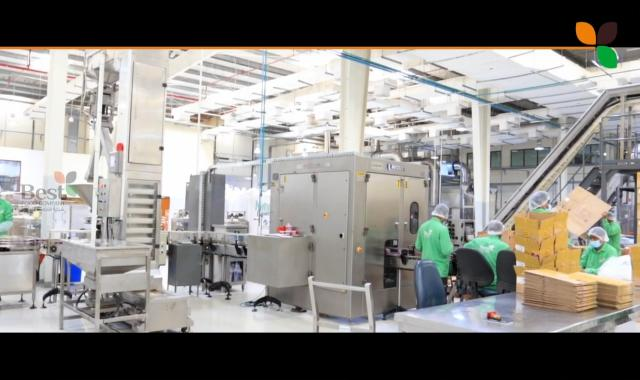hairnet: (530, 188, 550, 211), (587, 227, 606, 246), (485, 220, 505, 236), (431, 203, 450, 218), (605, 213, 615, 223)
